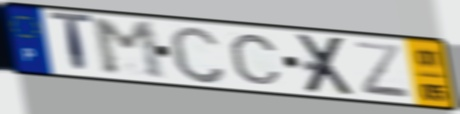C: (166, 23, 229, 86), (226, 32, 284, 86)
M: (88, 17, 170, 82)
T: (47, 10, 97, 78)
X: (295, 32, 359, 97)
Z: (351, 39, 414, 101)
